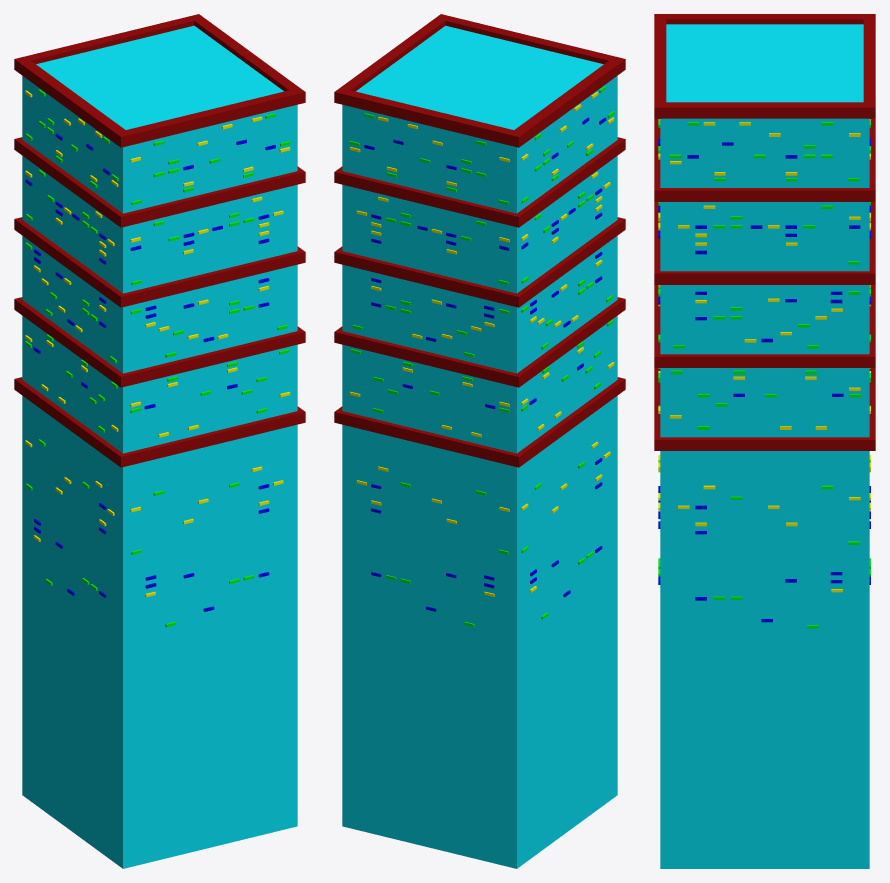
File: SM_Building02.FBX
3 renders of one model, left to right at view 1: azimuth 30°, elevation 25°; view 2: azimuth 150°, elevation 25°; view 3: azimuth 270°, elevation 25°, orthographic. The views are drawn at different scales.
Parts seen in each view (by area): view 1: Object011; view 2: Object011; view 3: Object011.
Boxes of the visible parts, bbox=[...] form: Object011: bbox=[14, 14, 305, 868]; Object011: bbox=[334, 14, 625, 868]; Object011: bbox=[654, 14, 875, 868].
Size of the model in its own units: 42.32 by 161 by 42.32.
